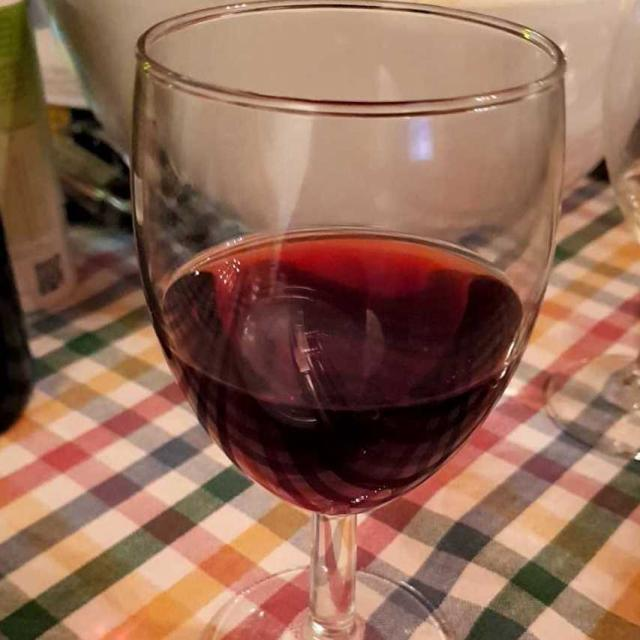wine: (159, 237, 526, 502)
